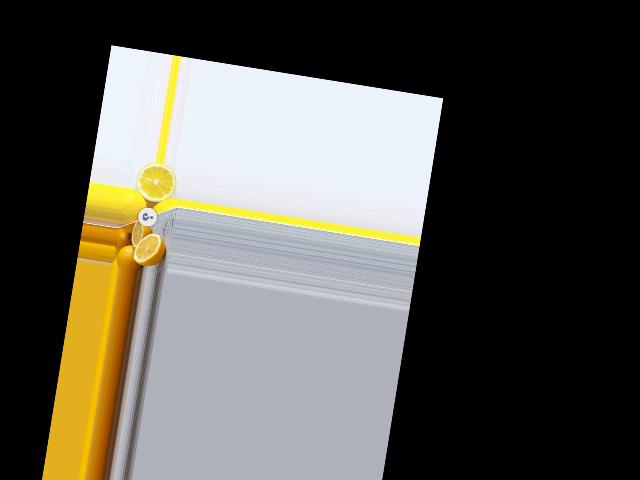lemon: (118, 185, 150, 228)
